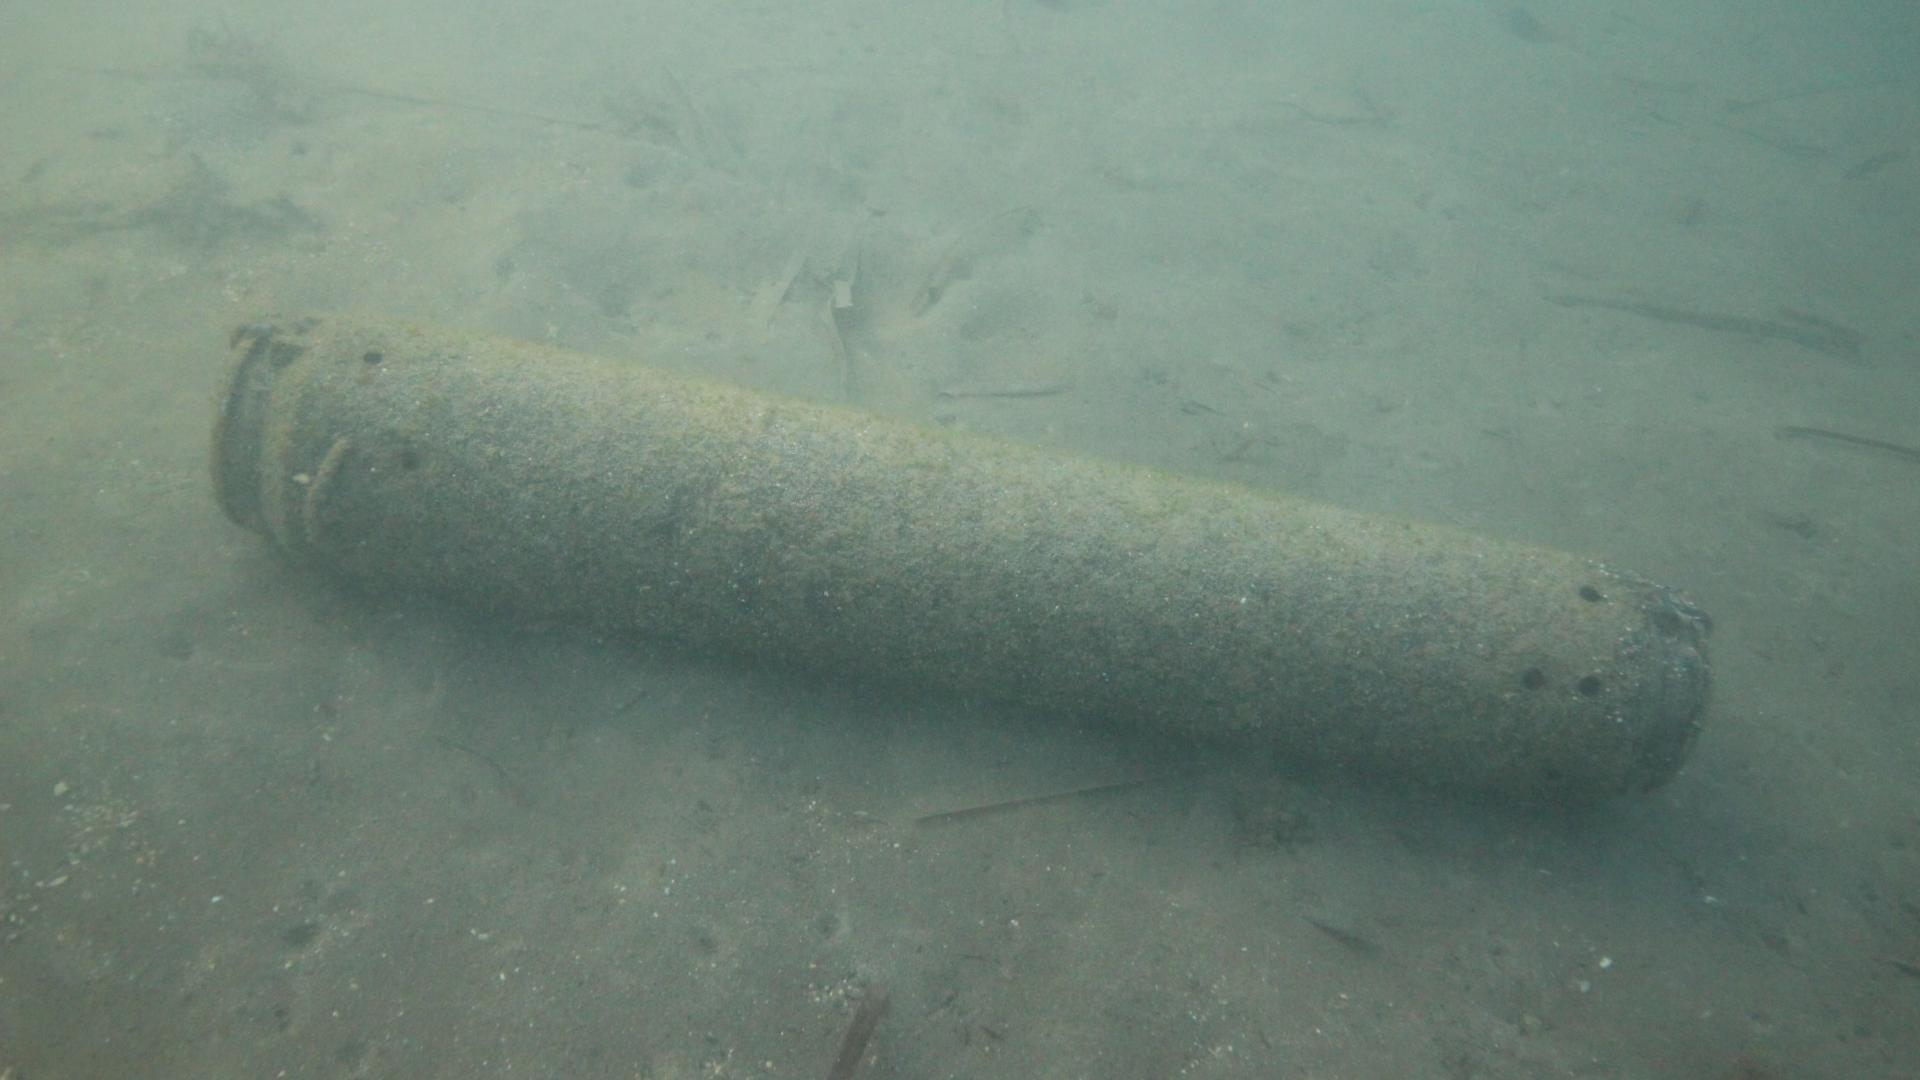eel fish trap: (204, 313, 1712, 802)
